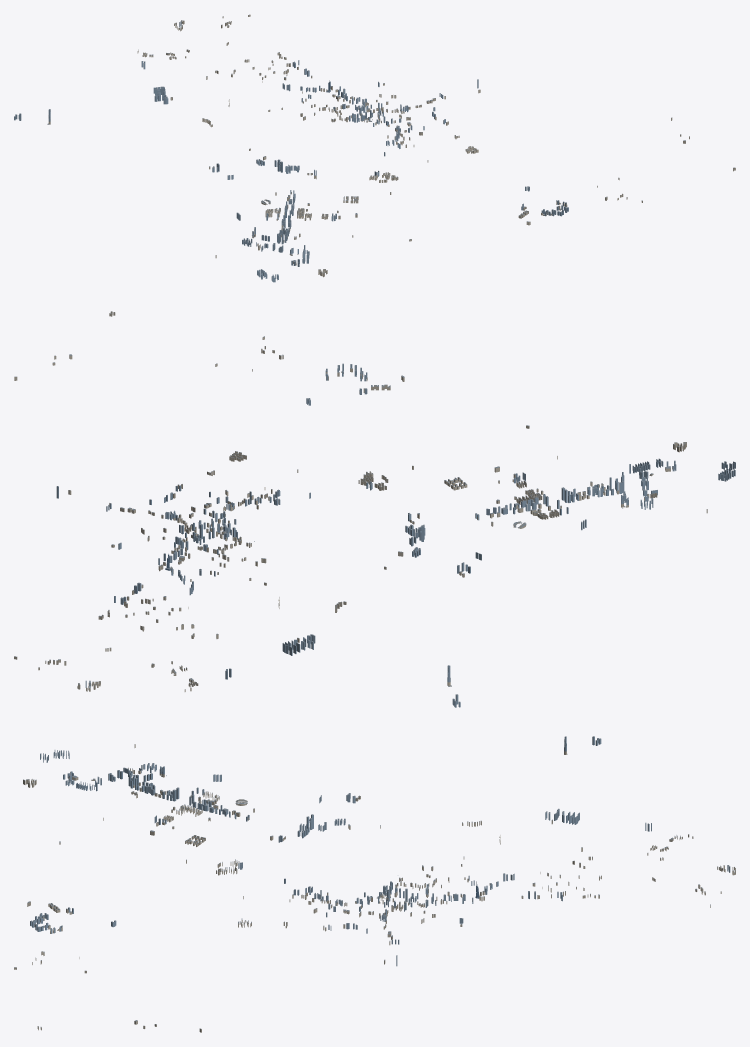
File: skyline.glb
3 views of the same model, one above another, from view 1: azimuth 30°, elevation 25°; view 2: azimuth 150°, elevation 25°; view 3: azimuth 270°, elevation 25° (orthographic). The views are drawn at different scales.
Visible parts, largest first — view 1: Skyline; view 2: Skyline; view 3: Skyline.
Part boxes in pixels (<box>): Skyline: <box>14,14,735,282</box>; Skyline: <box>14,311,735,707</box>; Skyline: <box>14,736,735,1032</box>.
Bounding box in the file's own units: 16832 × 505 × 17669.
